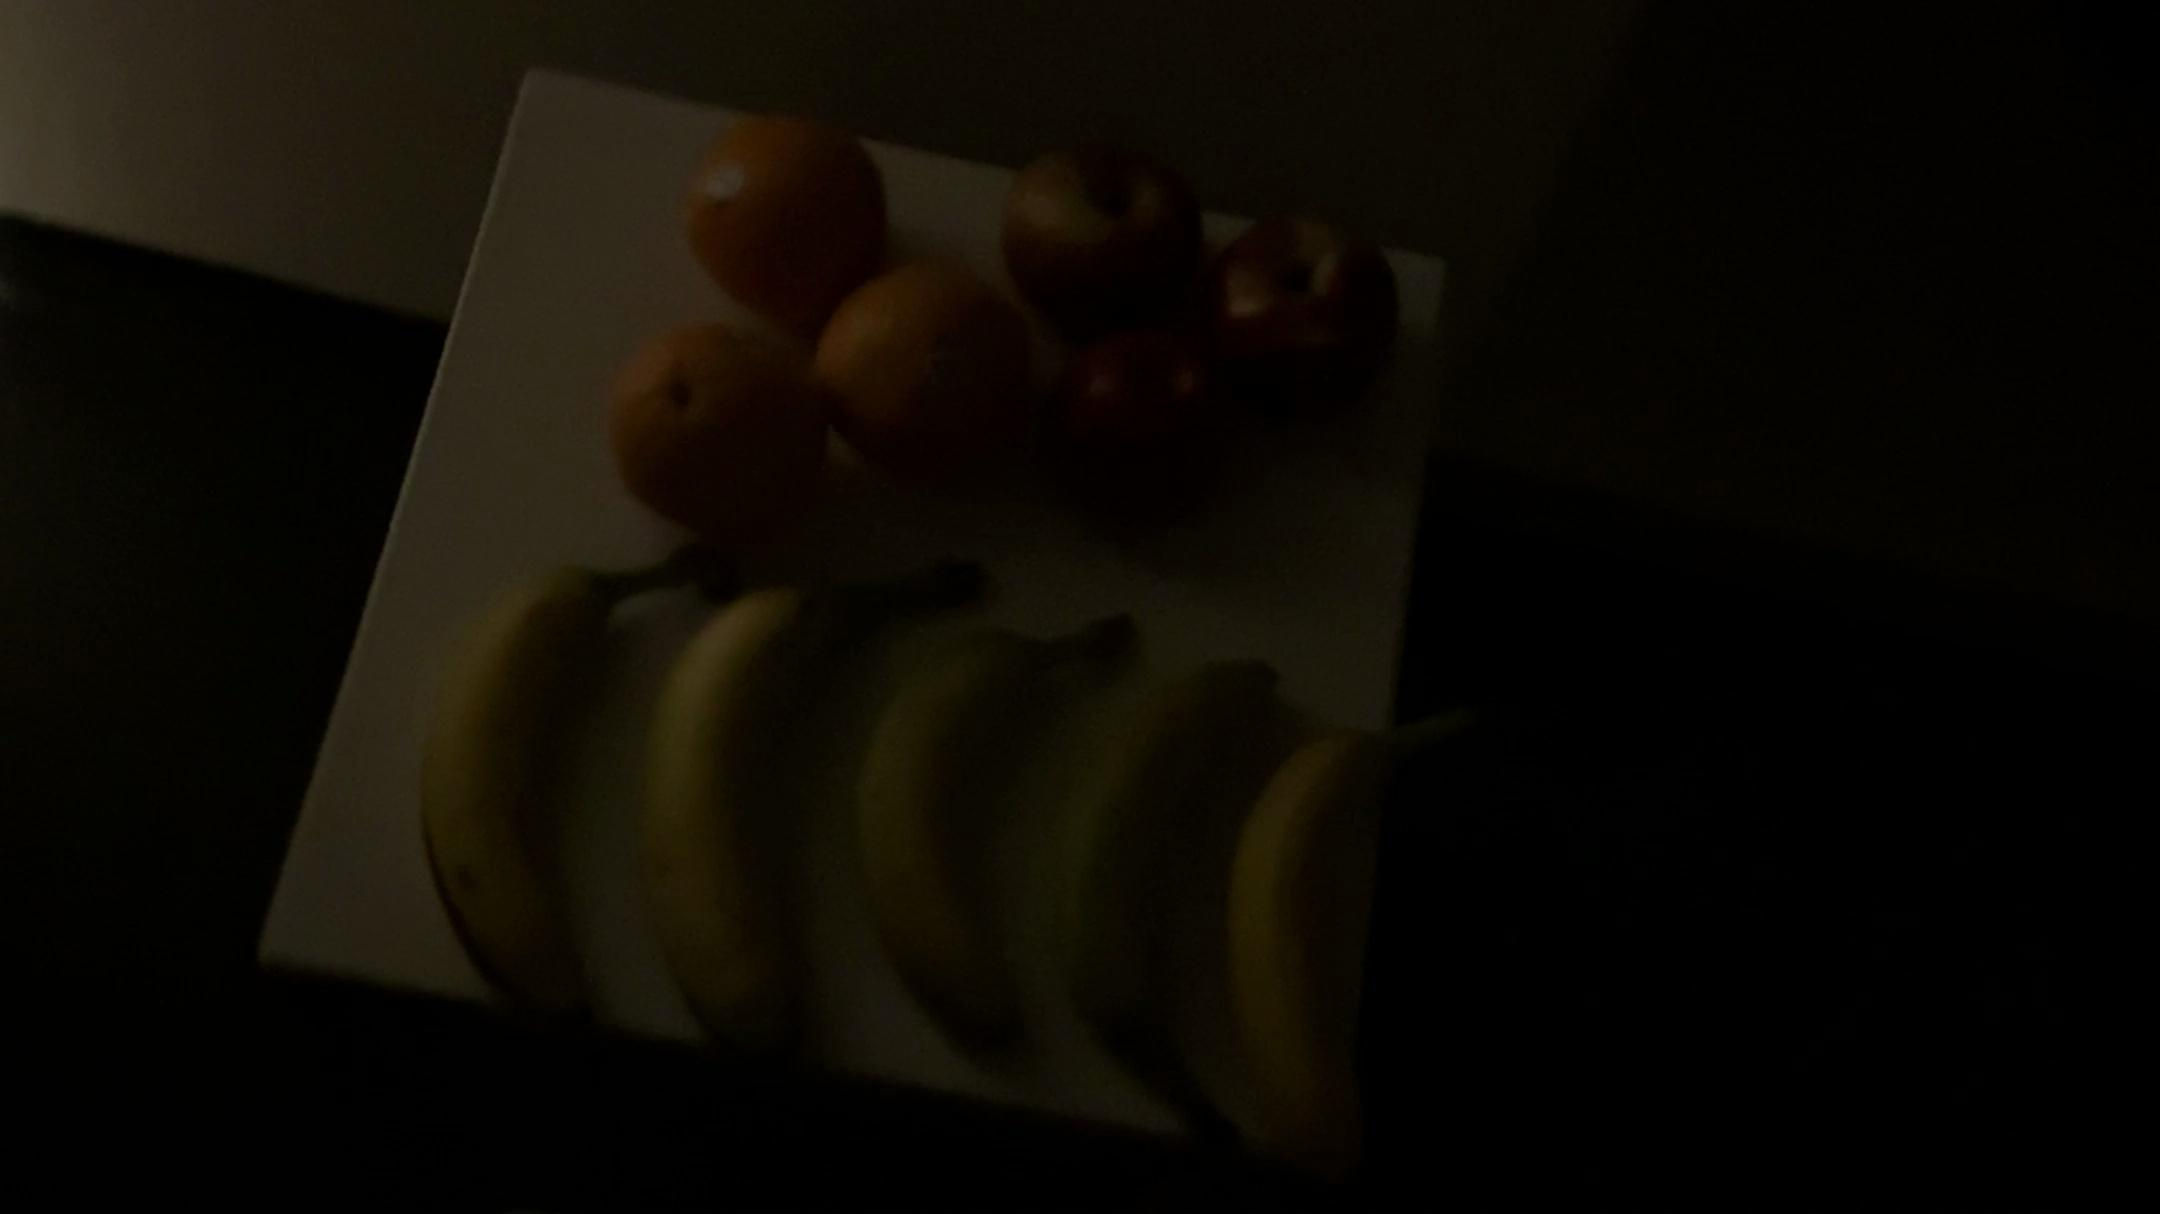apple: (1024, 301, 1219, 549), (984, 137, 1202, 347), (1208, 211, 1406, 441)
banana: (669, 515, 972, 1058), (405, 522, 718, 1024), (866, 591, 1133, 1095), (1031, 647, 1300, 1129), (1214, 703, 1412, 1141)
orange: (807, 249, 1028, 482), (685, 93, 892, 321), (601, 313, 811, 519)
